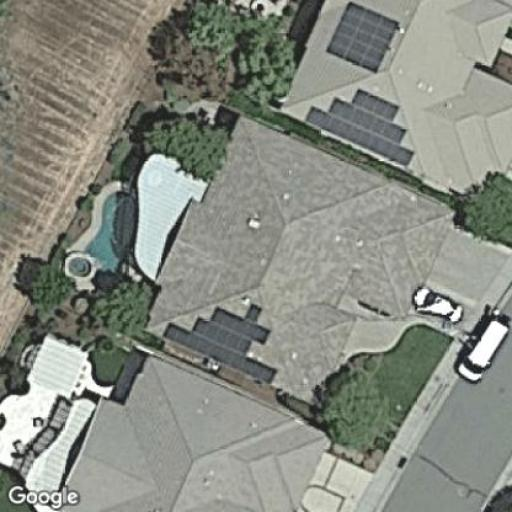solar-panel: (160, 300, 283, 384), (304, 88, 417, 167), (325, 1, 401, 73)
